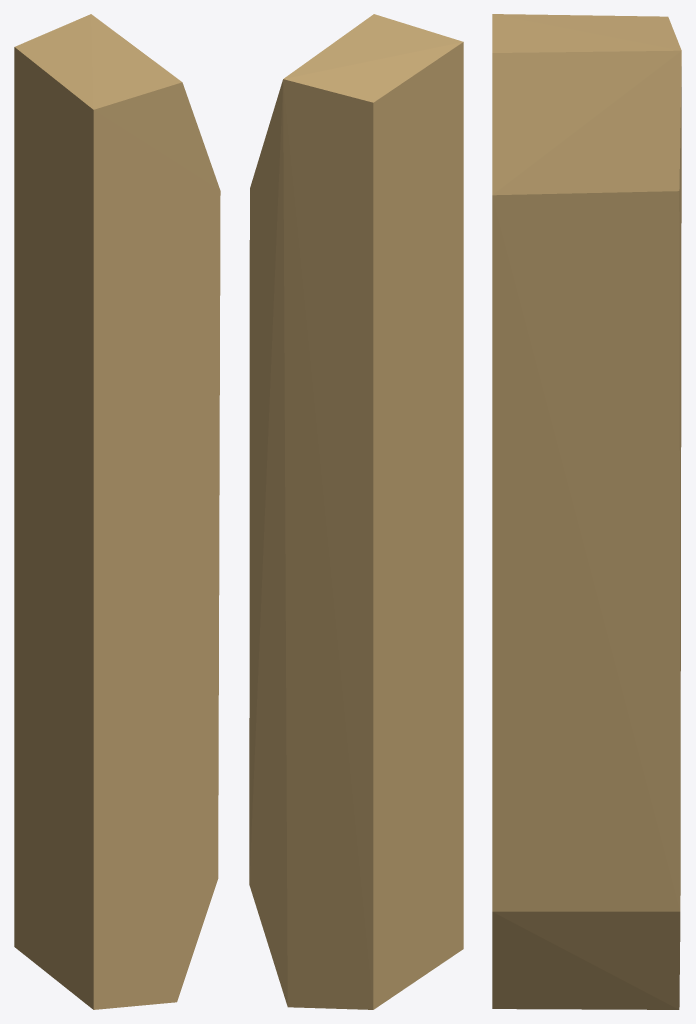
The picture shows the model from 3 angles, left to right: view 1: azimuth 30°, elevation 25°; view 2: azimuth 150°, elevation 25°; view 3: azimuth 270°, elevation 25°; orthographic projection. The views are drawn at different scales.
Size of the model in its own units: 2.25 by 15.61 by 2.79.
